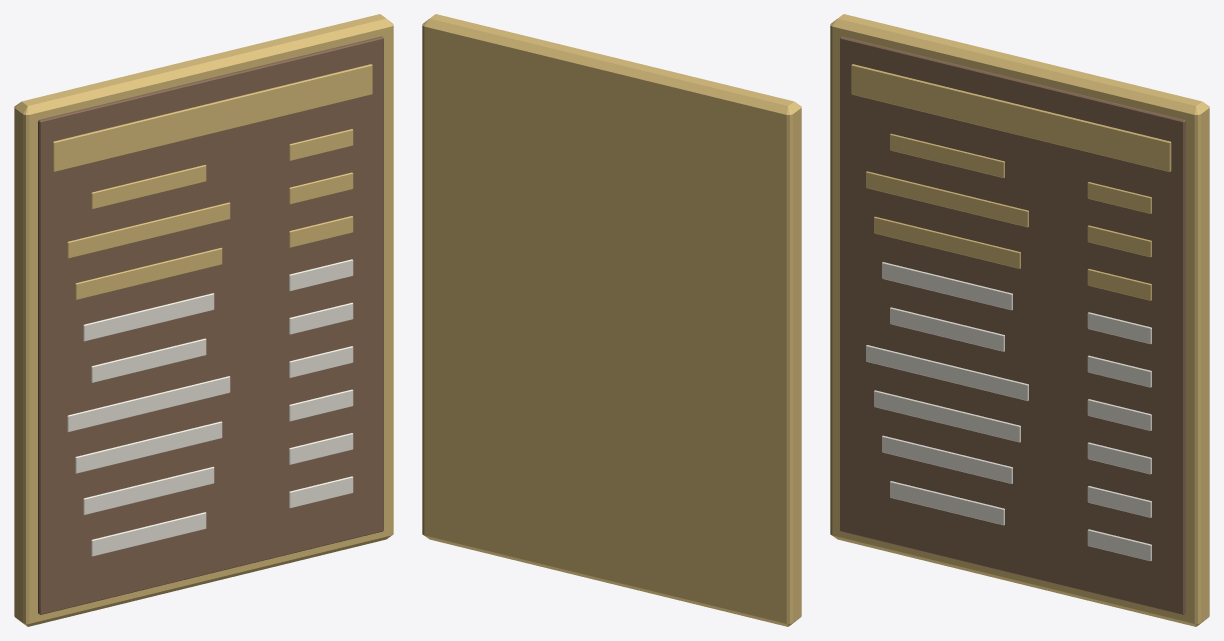
Rendered from escape-room-and-puzzle-venue-leaderboard-frame-eedd218e__35810.glb.
The picture shows the model from 3 angles, left to right: view 1: azimuth 30°, elevation 25°; view 2: azimuth 150°, elevation 25°; view 3: azimuth 330°, elevation 25°; orthographic projection.
Visible parts, largest first — view 1: leaderboard-frame; view 2: leaderboard-frame; view 3: leaderboard-frame.
Part boxes in pixels (x1,y1,x2,y2): leaderboard-frame: (14, 14, 393, 626); leaderboard-frame: (422, 14, 801, 626); leaderboard-frame: (830, 14, 1209, 626).
Bounding box in the file's own units: 1.16 × 1.56 × 0.0861.
